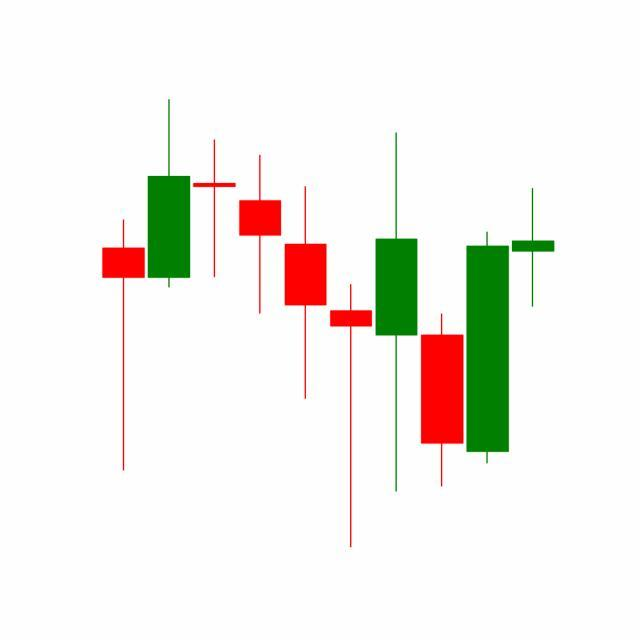Hikkake Pattern: (283, 128, 512, 548)
